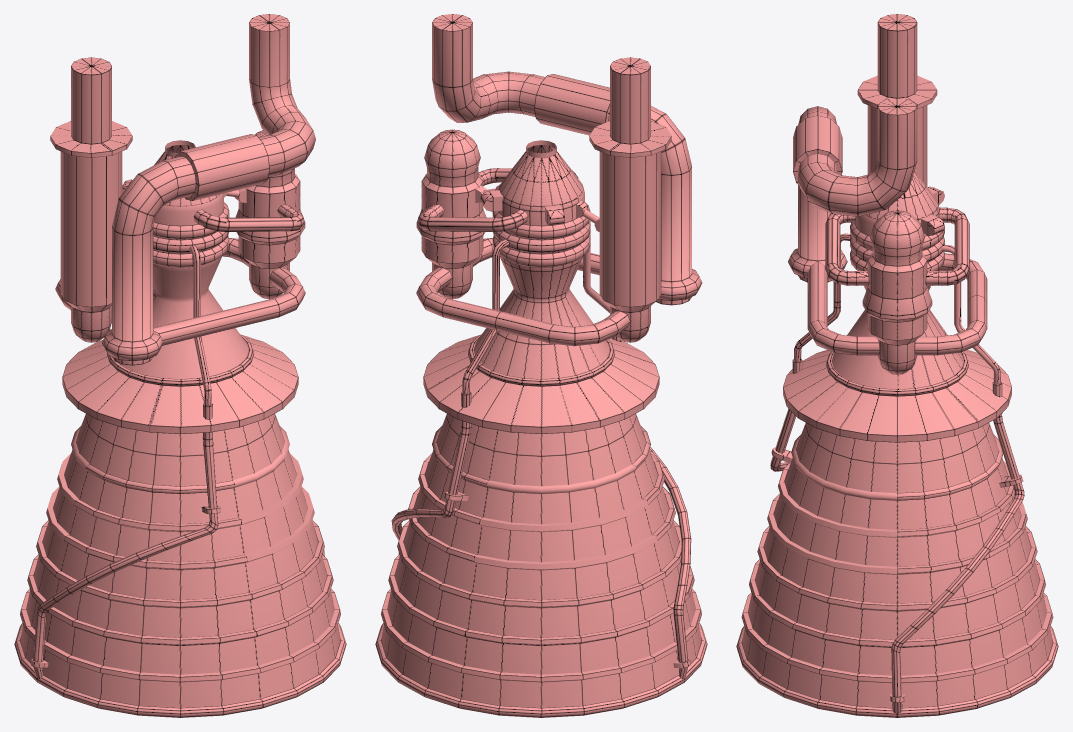
The model's file is rotanev_lv_engine_s1p5_1.obj.
3 views of the same model, side by side, from view 1: azimuth 30°, elevation 25°; view 2: azimuth 150°, elevation 25°; view 3: azimuth 270°, elevation 25° (orthographic). The views are drawn at different scales.
Parts seen in each view (by area): view 1: 1; view 2: 1; view 3: 1.
Boxes of the visible parts, x1,y1,x2,y2 form: 1: (14, 14, 346, 717); 1: (375, 14, 707, 717); 1: (736, 14, 1058, 717).
Size of the model in its own units: 1.67 by 3.25 by 1.62.
1 material, 1 textured.
